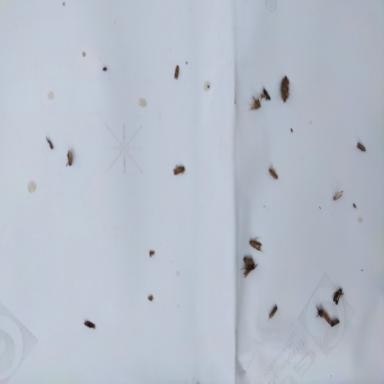pbw: (240, 257, 258, 277), (316, 308, 332, 327), (280, 76, 290, 103), (250, 236, 264, 253), (332, 287, 344, 305), (257, 87, 270, 103), (248, 95, 261, 110), (268, 163, 278, 179), (172, 164, 186, 175), (64, 149, 72, 166), (268, 306, 277, 321), (334, 190, 344, 200), (356, 142, 366, 151), (46, 136, 52, 149), (84, 321, 95, 328), (174, 64, 179, 79), (330, 318, 339, 326)
